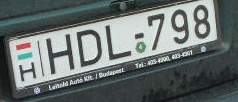7: (146, 12, 164, 53)
8: (192, 2, 210, 39)
9: (169, 8, 190, 47)
D: (76, 27, 102, 66)
H: (46, 33, 75, 76)
L: (105, 22, 134, 60)
